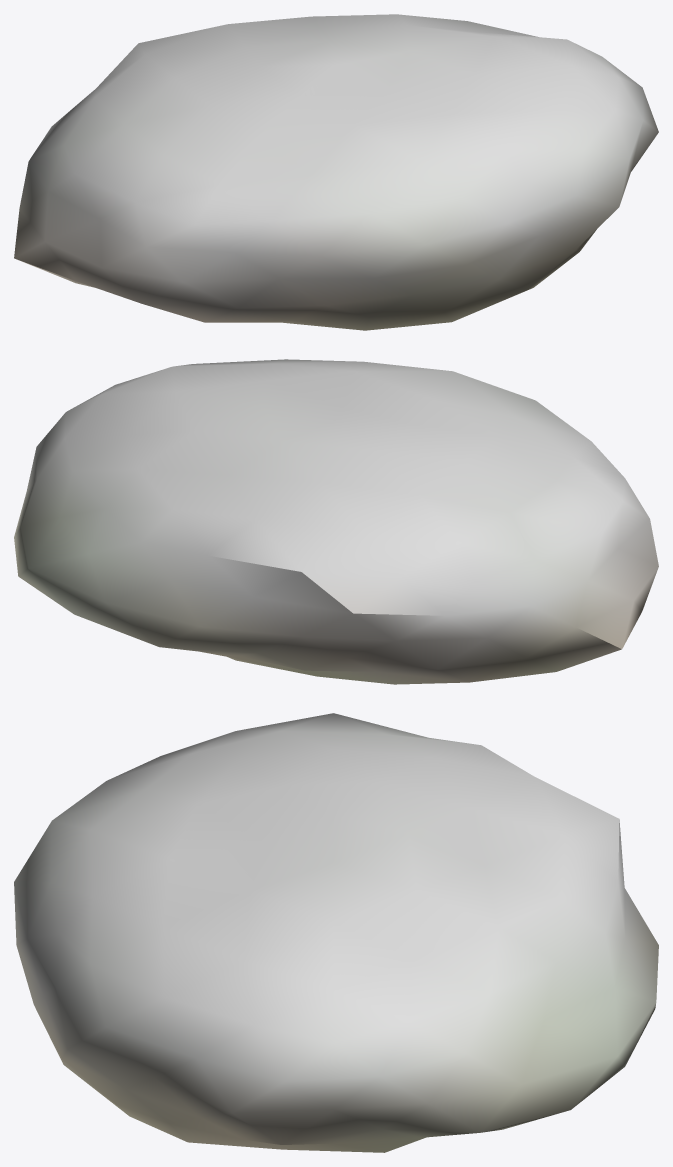
Rendered from boulder_flat_v4.glb.
3 renders of one model, top to bottom at view 1: azimuth 30°, elevation 25°; view 2: azimuth 150°, elevation 25°; view 3: azimuth 270°, elevation 25°, orthographic. The views are drawn at different scales.
Parts seen in each view (by area): view 1: Boulder; view 2: Boulder; view 3: Boulder.
Boxes of the visible parts, <box> form: Boulder: <box>14,14,658,330</box>; Boulder: <box>14,359,658,684</box>; Boulder: <box>14,713,658,1152</box>.
Size of the model in its own units: 2.01 by 0.7325 by 1.56.
